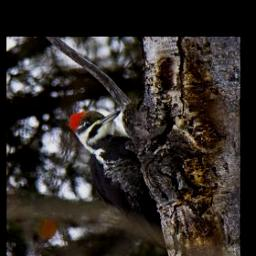Woodpecker: (64, 108, 159, 231)
